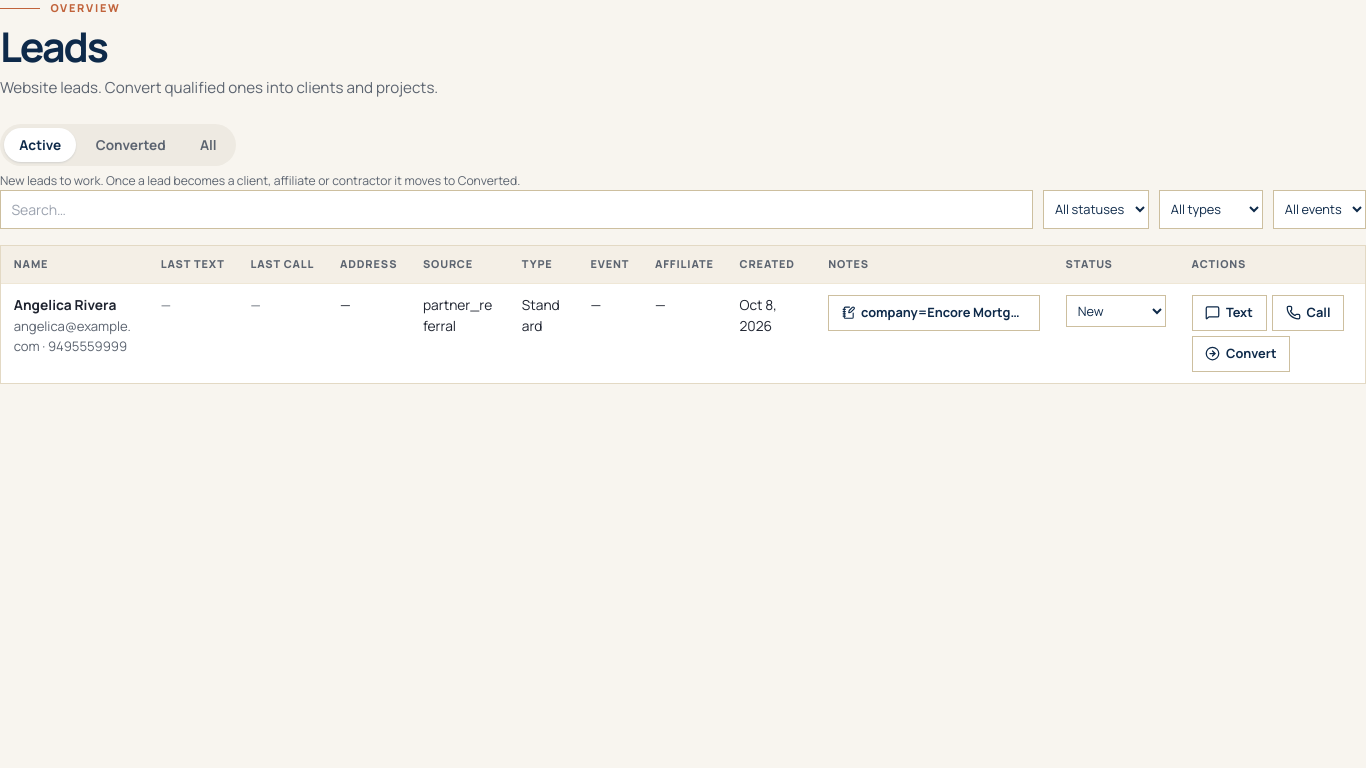
Admin Leads Convert modal › hides affiliate/contractor targets for agent (projects.write only)
This screenshot has width=1366, height=768.
Expected: the text "Angelica Rivera" is shown, x1=14 y1=295 x2=116 y2=314
Click the button "Convert" at coordinates (1241, 354), box x1=1192 y1=336 x2=1290 y2=372
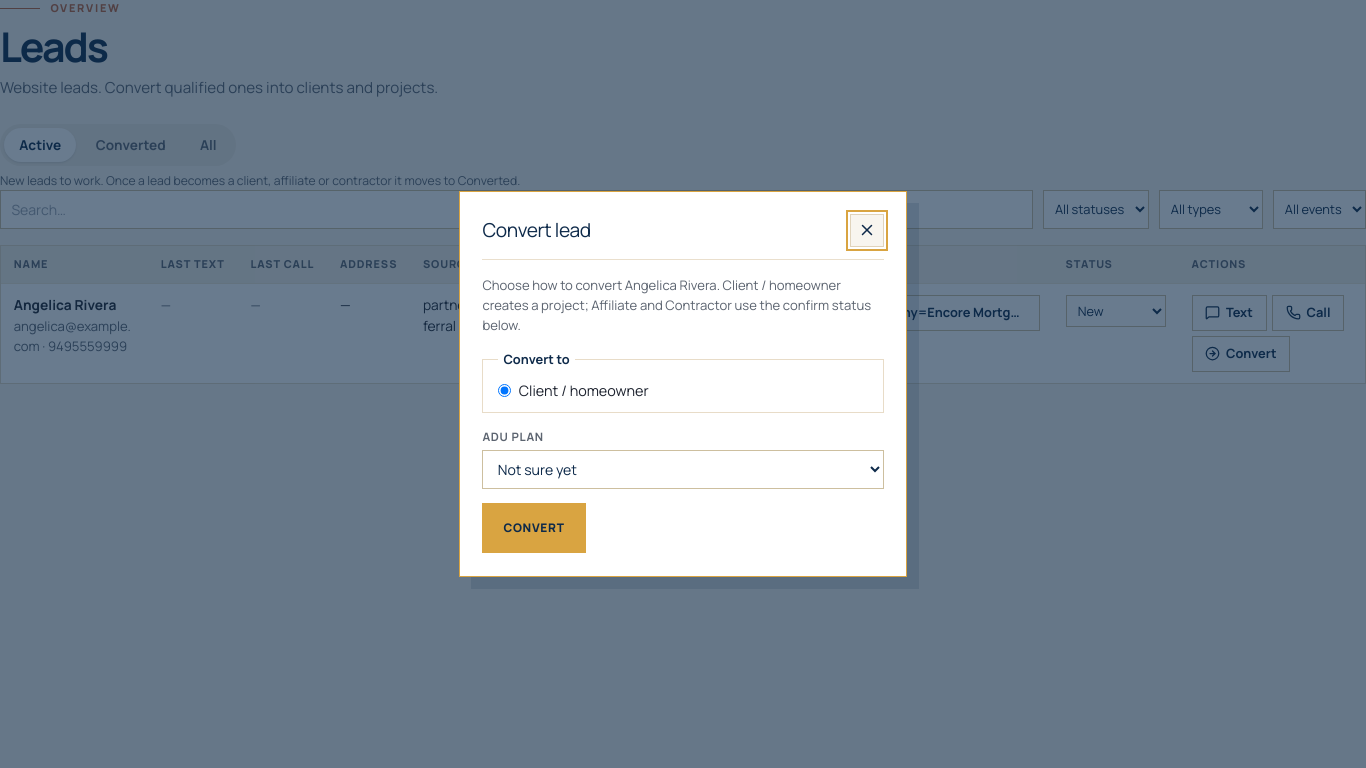
Expected: the radio button labelled "Client / homeowner" is checked, x1=498 y1=384 x2=511 y2=397
